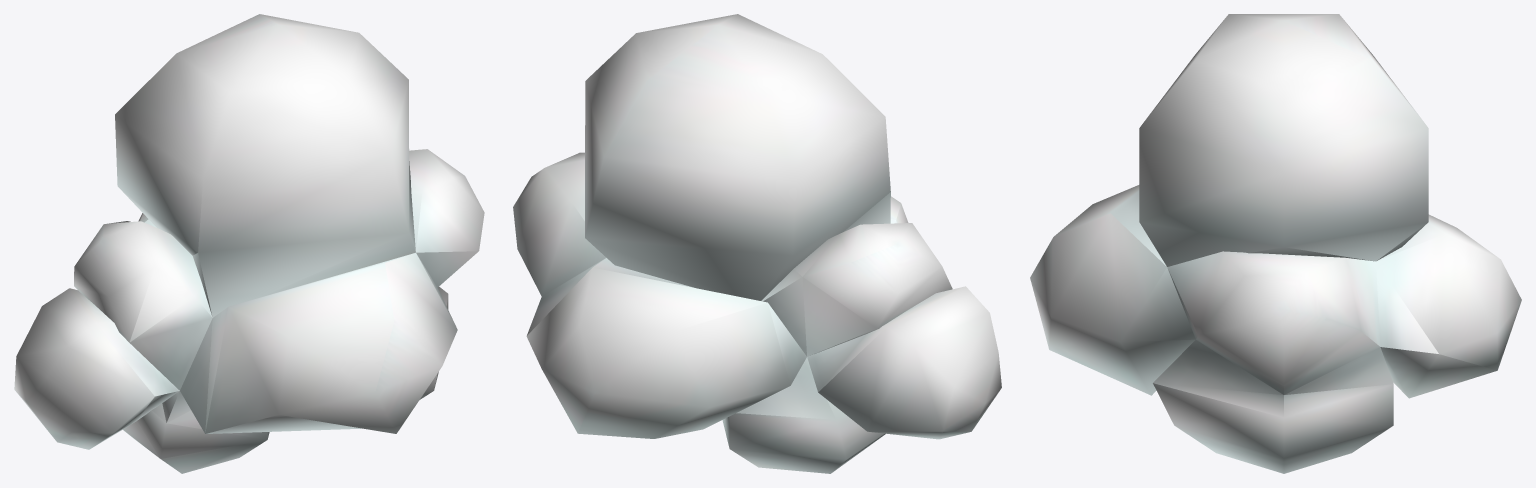
Rendered from bumper_cloud.glb.
The picture shows the model from 3 angles, left to right: view 1: azimuth 30°, elevation 25°; view 2: azimuth 150°, elevation 25°; view 3: azimuth 270°, elevation 25°; orthographic projection. The views are drawn at different scales.
Visible parts, largest first — view 1: cloud1; view 2: cloud1; view 3: cloud1.
Boxes of the visible parts, bbox=[...] form: cloud1: bbox=[14, 14, 484, 473]; cloud1: bbox=[513, 14, 1001, 473]; cloud1: bbox=[1030, 14, 1521, 473].
Bounding box in the file's own units: 2.32 × 1.98 × 2.15.
Materials: 1 (1 with a texture image).
